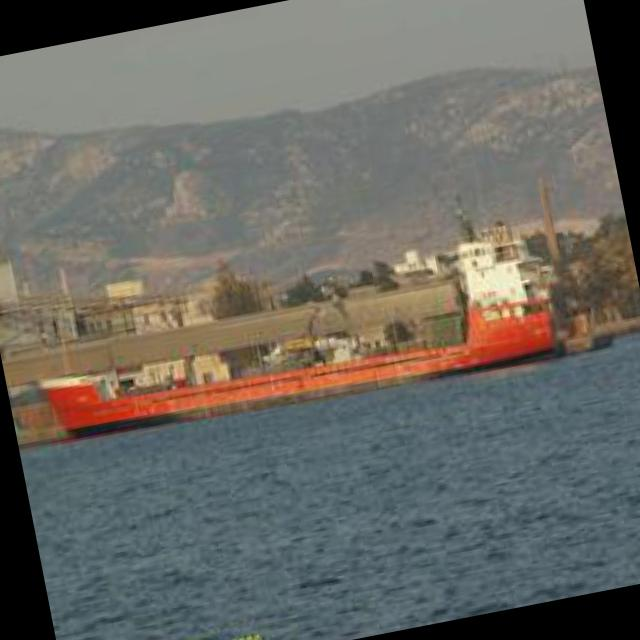boat: (37, 276, 576, 452)
